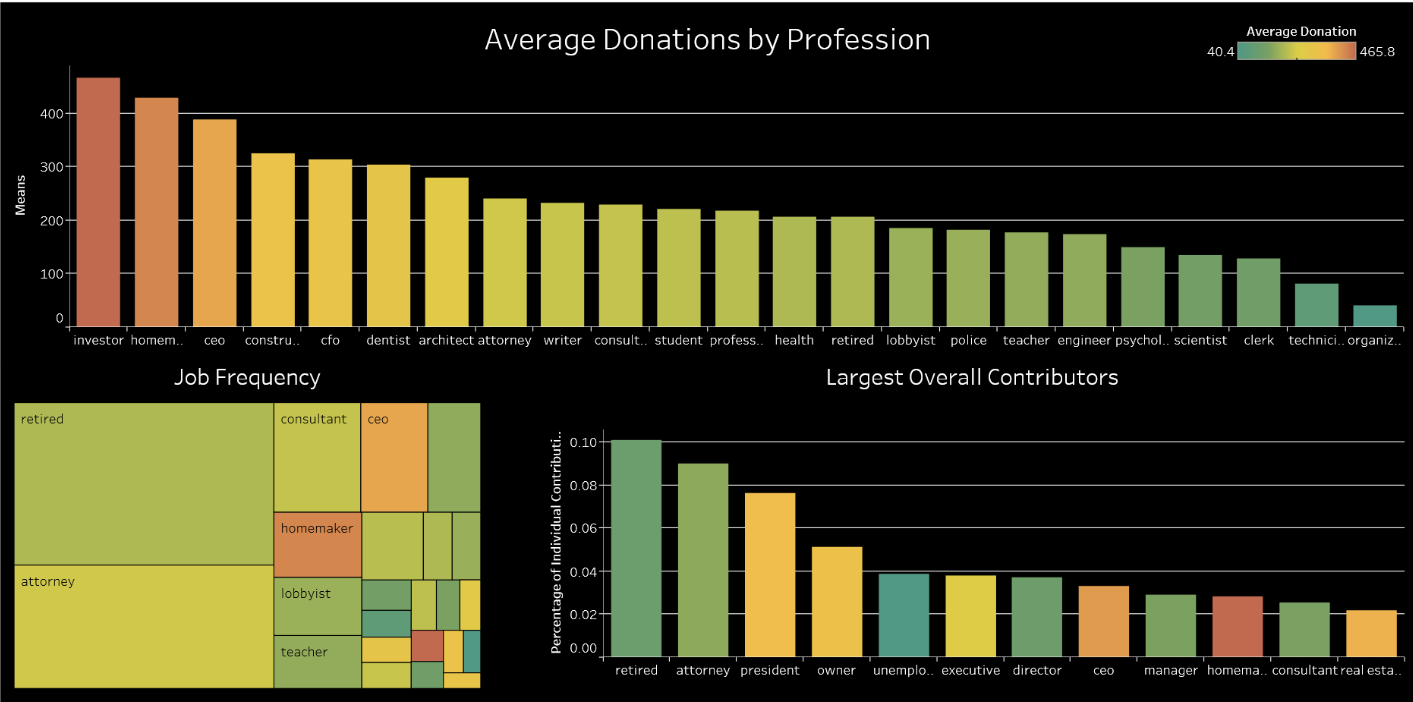

Layout of this report page (visuals, bound fields, positions):
{"tool":"tableau","page":{"name":"Dashboard 1","canvas":[1000,1000],"units":"permille","ordinal":0},"visuals":[{"type":"worksheet","title":"Sheet 1","mark":"Bar","rows":["means"],"cols":["wordsByFrequency"],"box":[4.9,9.9,990.2,489.9]},{"type":"legend","title":"Sheet 1","param":"[federated.1kpnchw0rceoc11g31c8x004lw4a].[sum:means:qk]","box":[850.7,23.5,138.2,109]},{"type":"worksheet","title":"Sheet 1 (2)","mark":"Automatic","box":[4.9,499.8,373.9,490.3]},{"type":"worksheet","title":"Sheet 3","mark":"Automatic","rows":["Calculation_869194777450602499"],"cols":["wordsByFrequency"],"box":[378.8,499.8,616.3,490.3]}]}

Visuals, with their boxes on the dashboard's canvas, which has no fixed pixel size, in thousandths of its width and height (x1, y1, x2, y2). These are canvas units, not pixel positions in the 1413x702 screenshot, which may show the page scaled, cropped or inside an application window:
"Sheet 1" worksheet (Bar marks): bbox(5, 10, 995, 500)
"Sheet 1" legend: bbox(851, 24, 989, 132)
"Sheet 1 (2)" worksheet: bbox(5, 500, 379, 990)
"Sheet 3" worksheet: bbox(379, 500, 995, 990)
